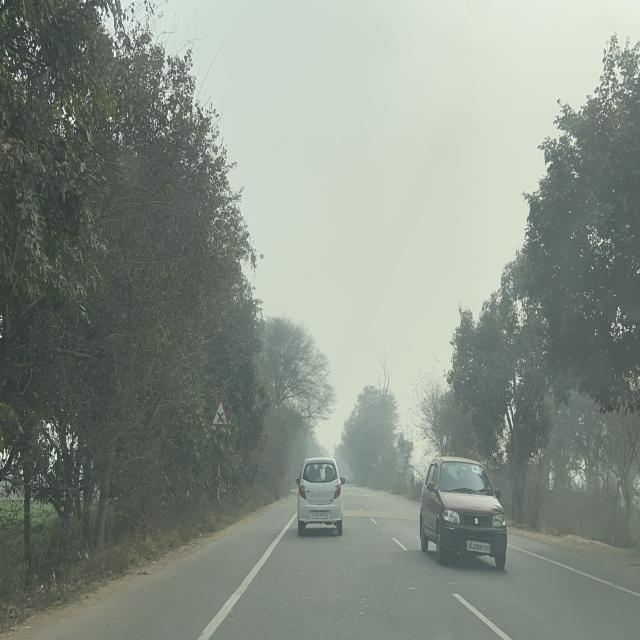CROSS_ROAD: (211, 398, 229, 428)
